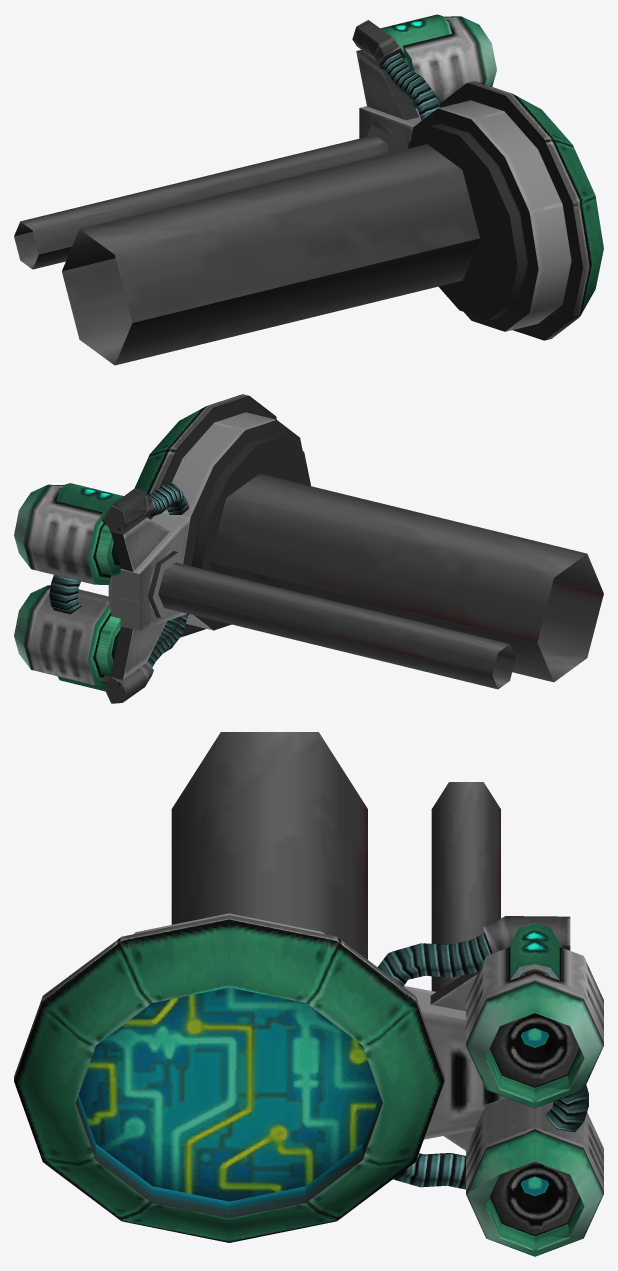
The model's file is Electrolyzer Portal.obj.
The picture shows the model from 3 angles, top to bottom: view 1: azimuth 30°, elevation 25°; view 2: azimuth 150°, elevation 25°; view 3: azimuth 270°, elevation 25°; orthographic projection. The views are drawn at different scales.
Parts seen in each view (by area): view 1: 28e; view 2: 28e; view 3: 28e.
Boxes of the visible parts, x1,y1,x2,y2 form: 28e: (14, 14, 603, 365); 28e: (14, 394, 603, 703); 28e: (14, 732, 603, 1256).
Size of the model in its own units: 21.26 by 9.89 by 16.36.
Materials: 1 (1 with a texture image).
